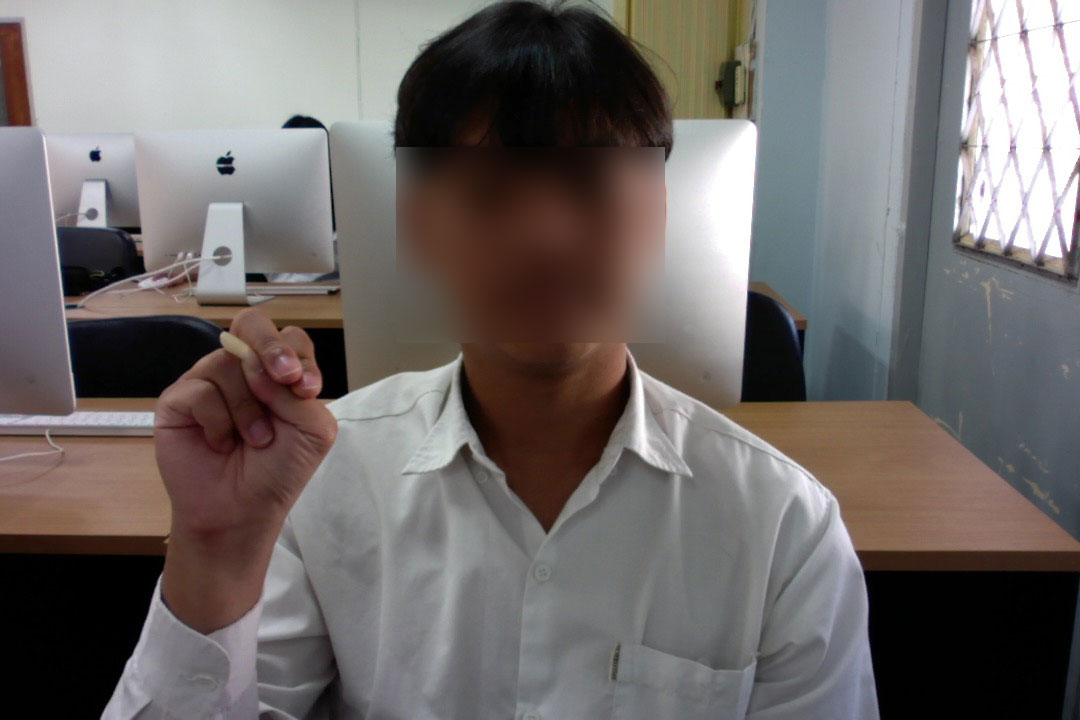nor: (143, 296, 353, 571)
